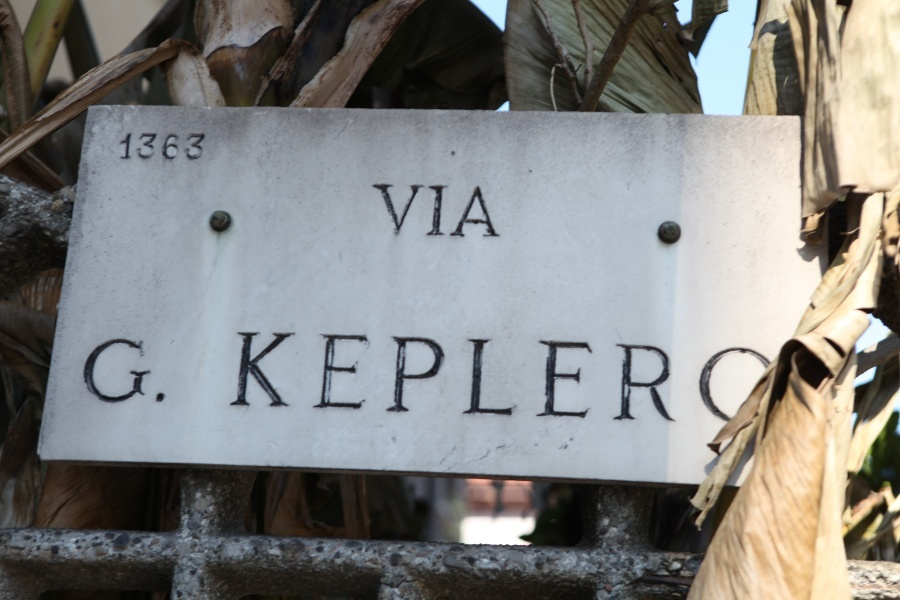text: (241, 328, 256, 434), (257, 328, 272, 434), (273, 328, 288, 434), (289, 328, 304, 434), (305, 328, 320, 434), (321, 328, 336, 434), (337, 328, 352, 434), (353, 328, 368, 434), (369, 328, 384, 434), (385, 328, 400, 434), (401, 328, 416, 434), (417, 328, 432, 434), (433, 328, 448, 434), (449, 328, 464, 434), (465, 328, 480, 434), (481, 328, 496, 434), (497, 328, 512, 434), (513, 328, 528, 434), (529, 328, 544, 434), (545, 328, 560, 434), (561, 328, 576, 434), (577, 328, 592, 434), (593, 328, 608, 434), (609, 328, 624, 434), (625, 328, 640, 434), (641, 328, 656, 434), (657, 328, 672, 434), (673, 328, 688, 434), (689, 328, 704, 434), (705, 328, 720, 434), (721, 328, 736, 434), (737, 328, 752, 434), (753, 328, 768, 434), (769, 328, 784, 434), (97, 331, 112, 408), (113, 331, 128, 408), (129, 331, 144, 408), (145, 331, 160, 408), (385, 184, 400, 239), (401, 184, 416, 239), (417, 184, 432, 239), (433, 184, 448, 239), (449, 184, 464, 239), (465, 184, 480, 239), (481, 184, 496, 239), (370, 184, 384, 239), (87, 331, 96, 408), (161, 331, 170, 408), (234, 328, 240, 434), (129, 132, 144, 161), (145, 132, 160, 161), (161, 132, 176, 161), (177, 132, 192, 161), (193, 132, 206, 161), (497, 184, 503, 239), (120, 132, 128, 161), (785, 328, 787, 434)
